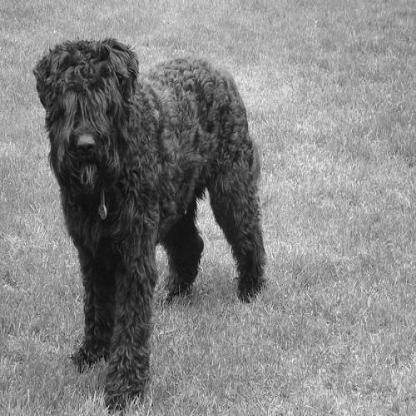Bouvier_des_Flandres: (31, 35, 266, 412)
